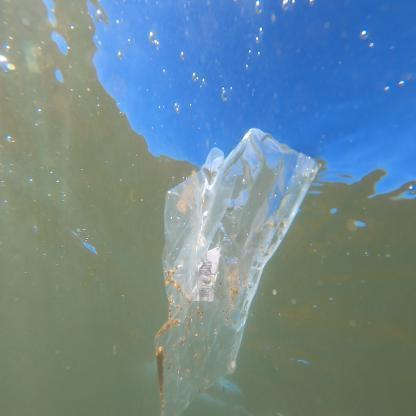Rác: (152, 130, 324, 416)
